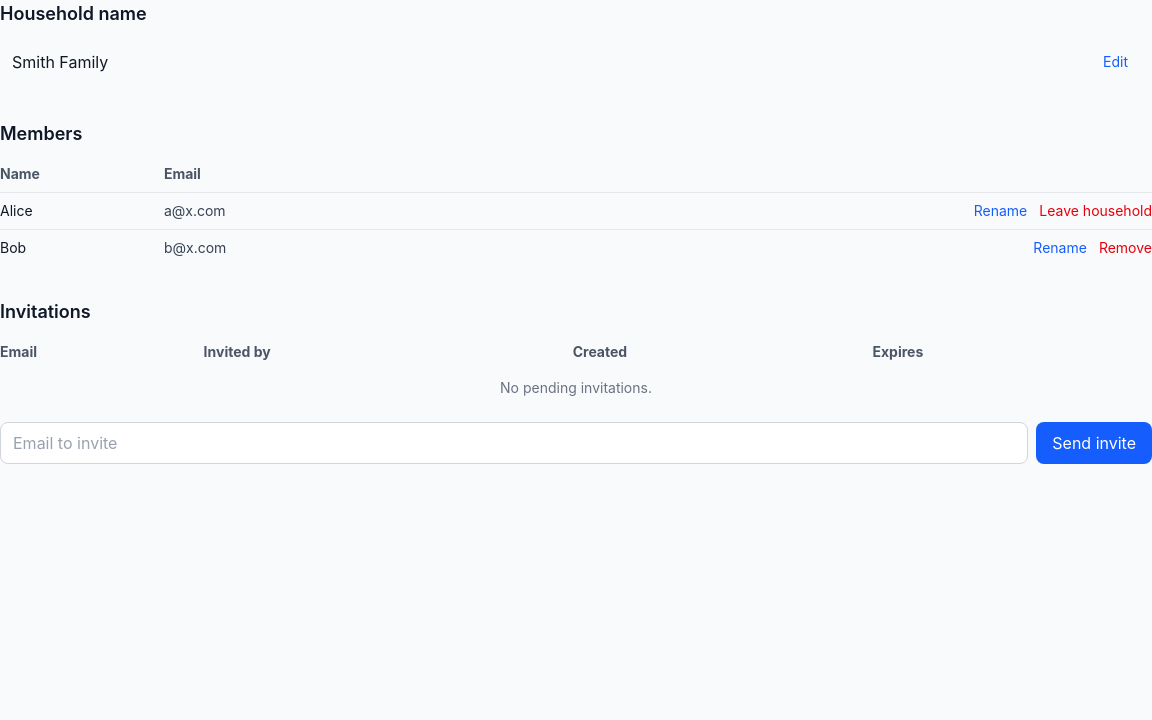
Test: HouseholdSection — invitations › creates invite then shows shareable link dialog
Step 1. Type "new@x.com" into the field labelled "Email to invite" → {"x": 514, "y": 443}, box [0,422,1028,464]
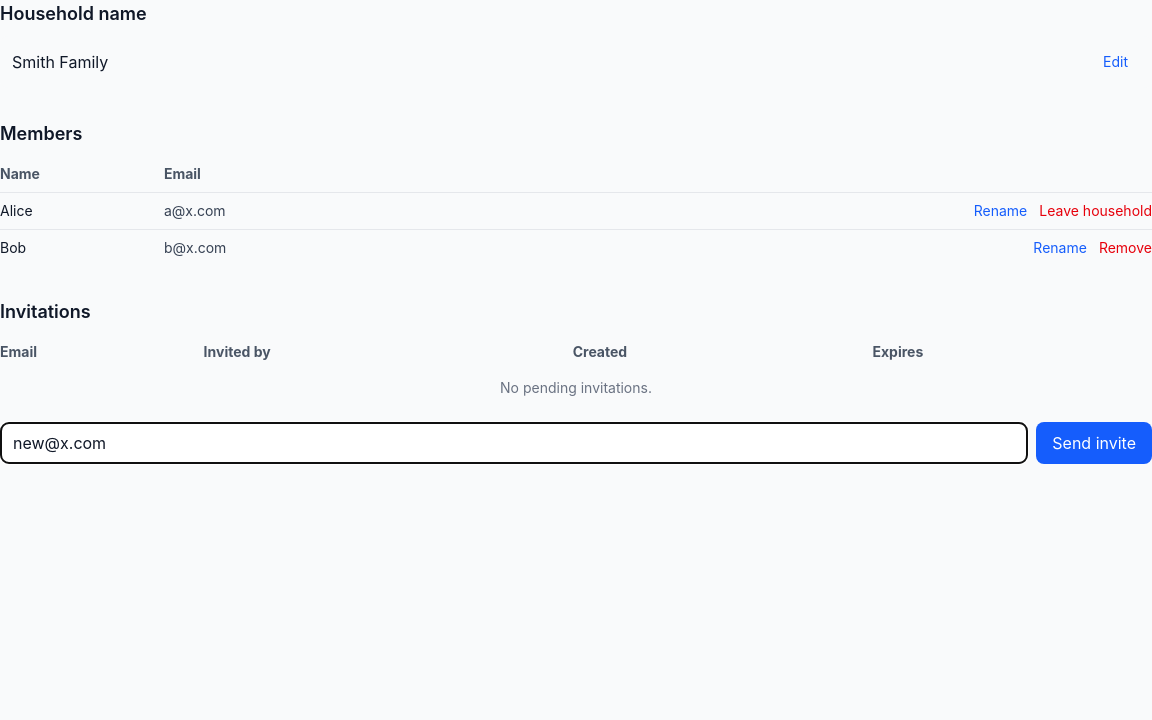
Step 2. Click the button "Send invite" → {"x": 1094, "y": 443}, box [1036,422,1151,464]
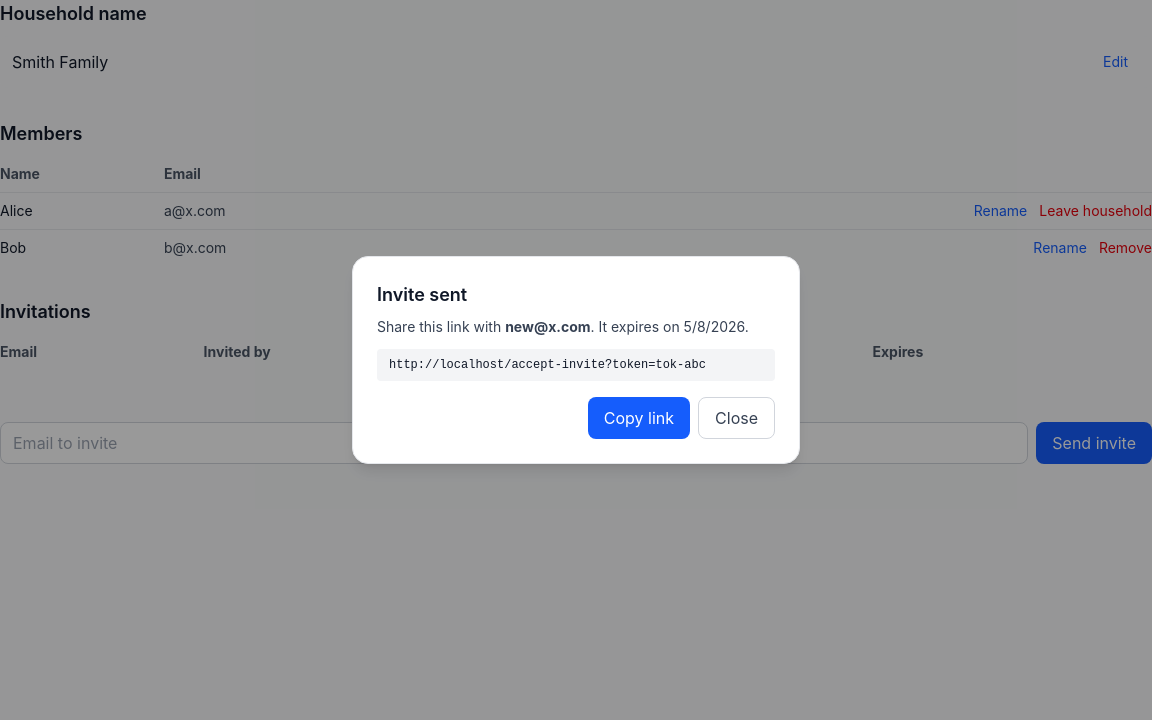
Check: the dialog shows "accept-invite?token=tok-abc", box [389,358,706,372]
